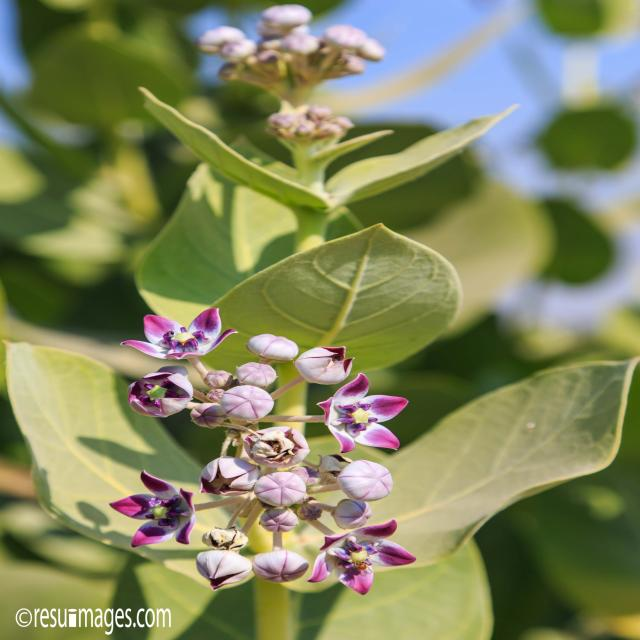Poisonous-Calatropis: (115, 3, 552, 236), (109, 302, 417, 601), (174, 219, 482, 400)
